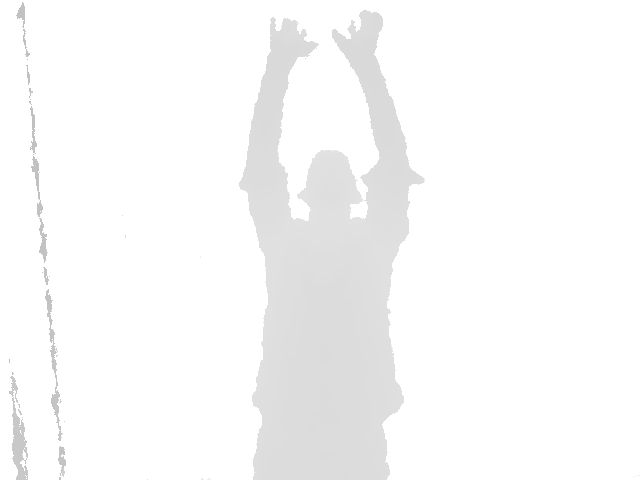hand: (331, 10, 384, 64), (268, 16, 319, 62)
head: (298, 148, 363, 219)
person: (238, 10, 425, 480)
